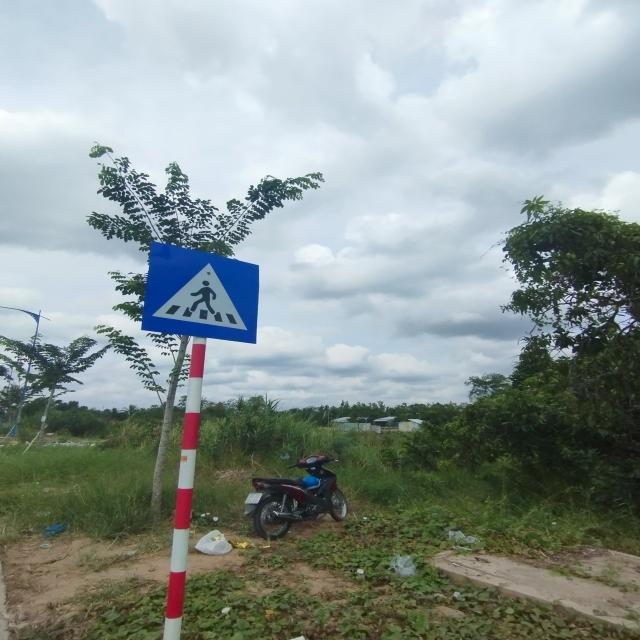Giao_Nhau_Duong_Uu_Tien: (143, 241, 260, 347)
